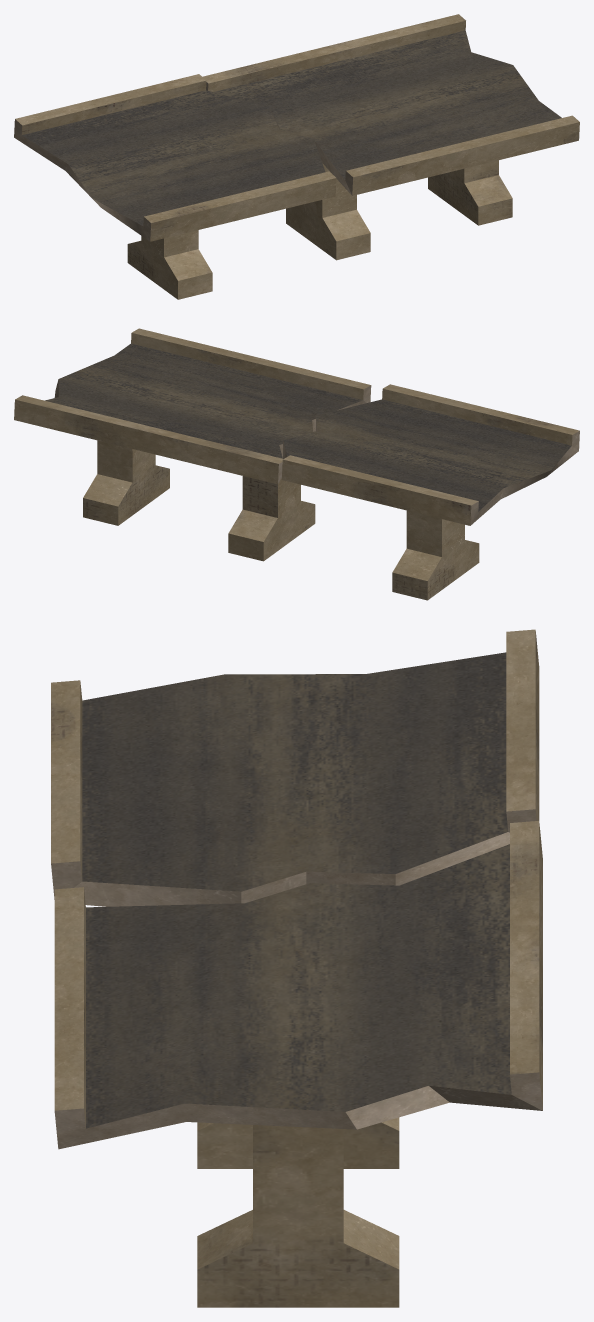
File: SM_Ruin_Bridge_02.FBX
3 views of the same model, one above another, from view 1: azimuth 30°, elevation 25°; view 2: azimuth 150°, elevation 25°; view 3: azimuth 270°, elevation 25° (orthographic). The views are drawn at different scales.
Visible parts, largest first — view 1: SM_Ruin_Bridge_02; view 2: SM_Ruin_Bridge_02; view 3: SM_Ruin_Bridge_02.
Part boxes in pixels (x1=…): SM_Ruin_Bridge_02: x1=14, y1=14, x2=579, y2=299; SM_Ruin_Bridge_02: x1=14, y1=328, x2=579, y2=600; SM_Ruin_Bridge_02: x1=51, y1=629, x2=542, y2=1307.
Size of the model in its own units: 1091 by 515 by 317.
